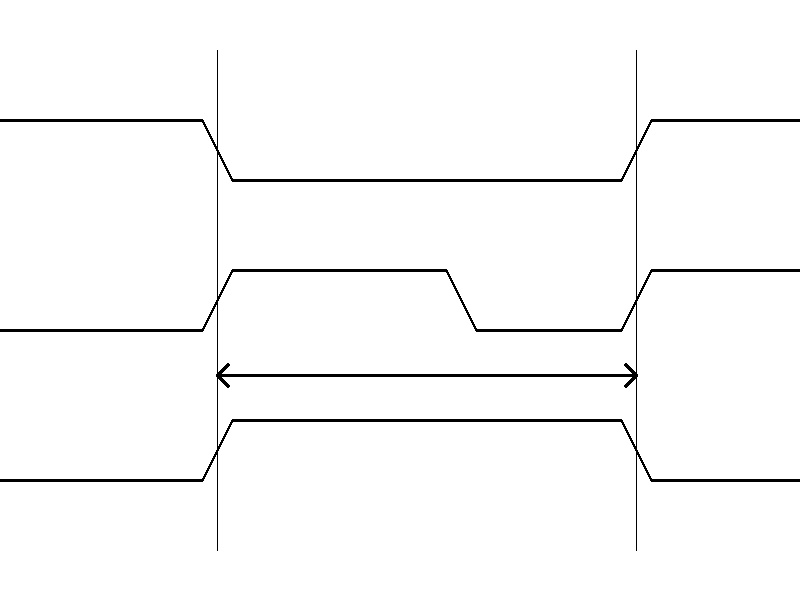double_arrow: (217, 360, 636, 390)
